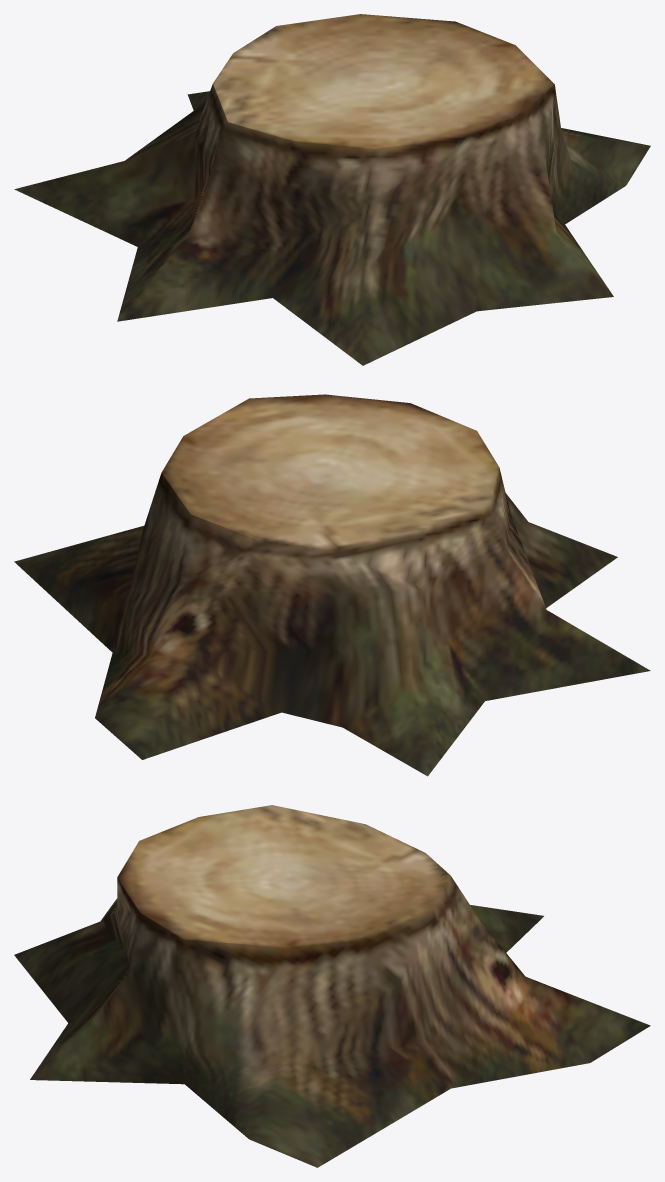
File: general_obj_stump.fbx
3 renders of one model, top to bottom at view 1: azimuth 30°, elevation 25°; view 2: azimuth 150°, elevation 25°; view 3: azimuth 270°, elevation 25°, orthographic. The views are drawn at different scales.
Visible parts, largest first — view 1: Object07; view 2: Object07; view 3: Object07.
Boxes of the visible parts, box(x1,y1,x2,y2) form: Object07: box(14, 14, 650, 365); Object07: box(14, 394, 650, 776); Object07: box(14, 805, 650, 1167).
Size of the model in its own units: 1.42 by 0.3559 by 1.36.
